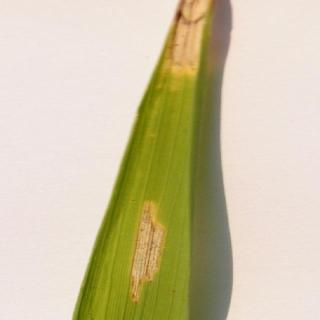Hawar-Daun: (124, 176, 182, 317), (165, 0, 200, 153)
